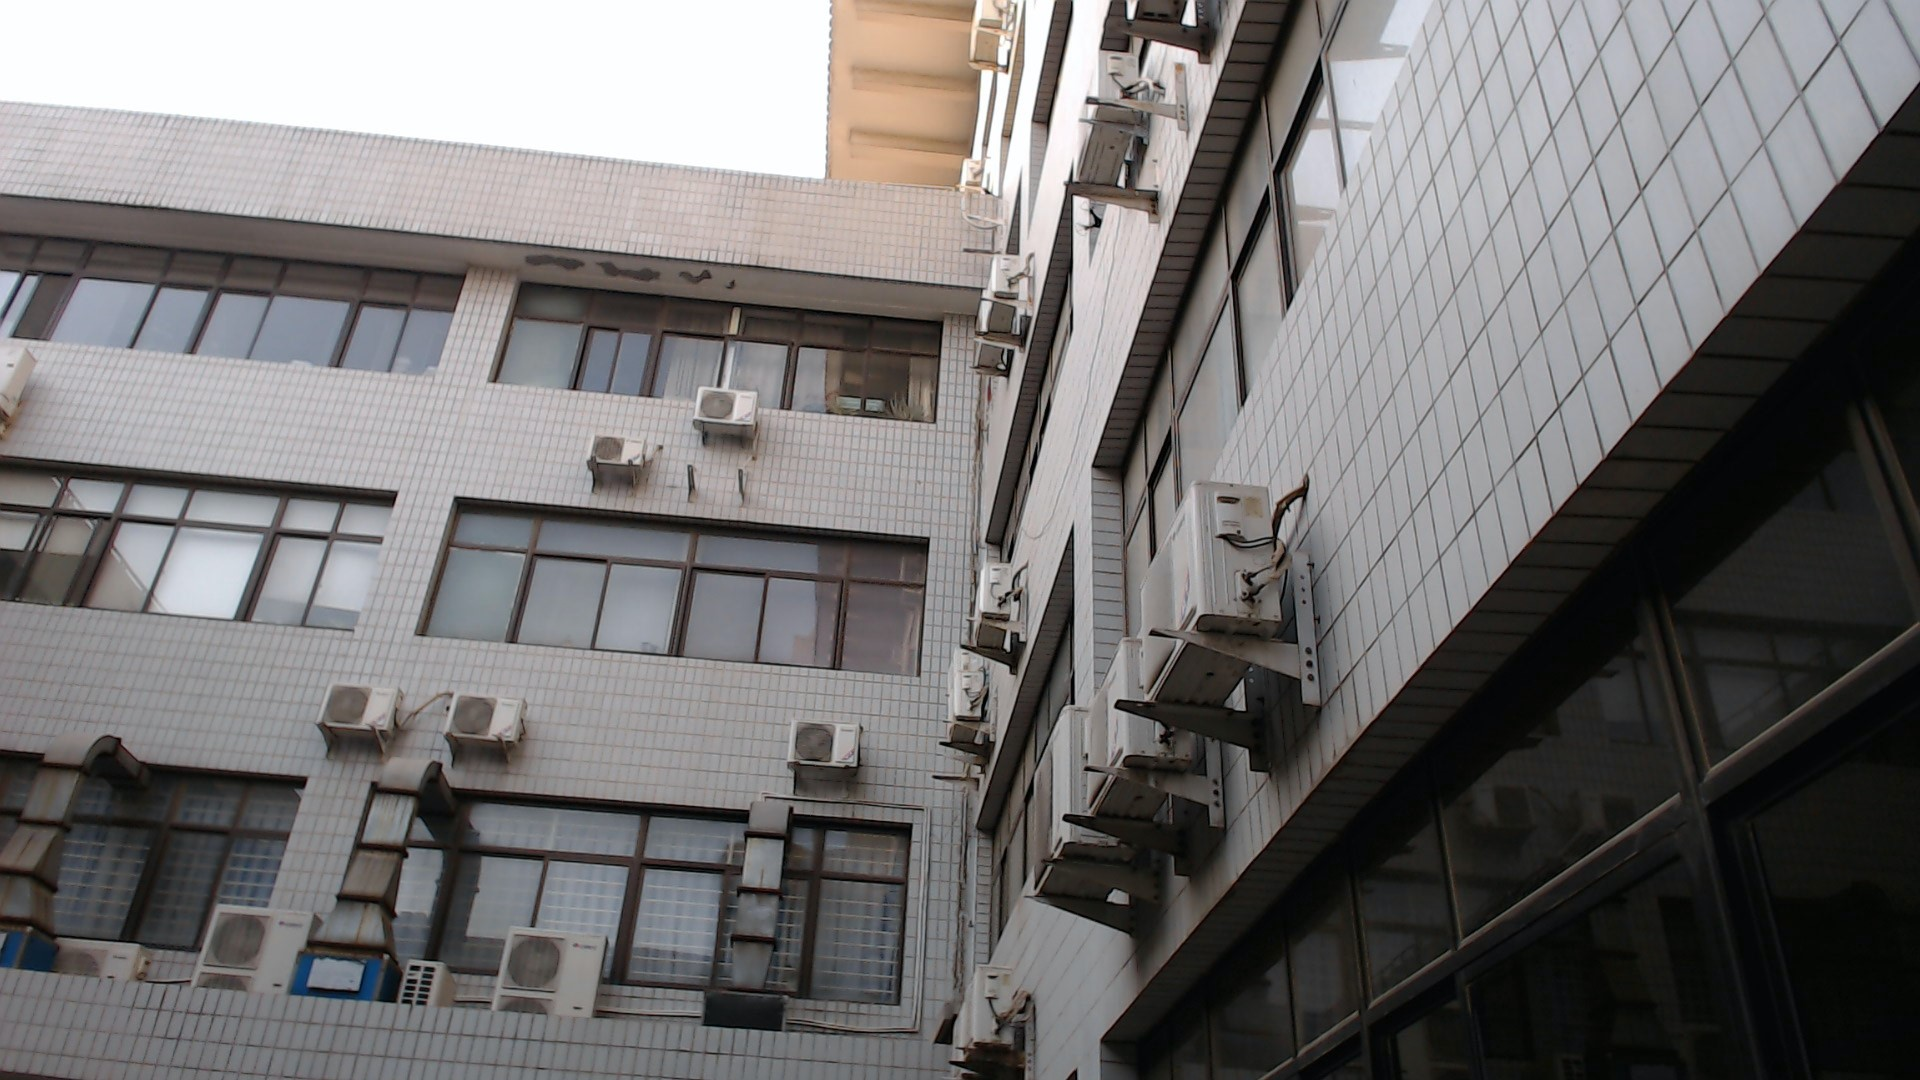drone: (1062, 187, 1125, 247)
